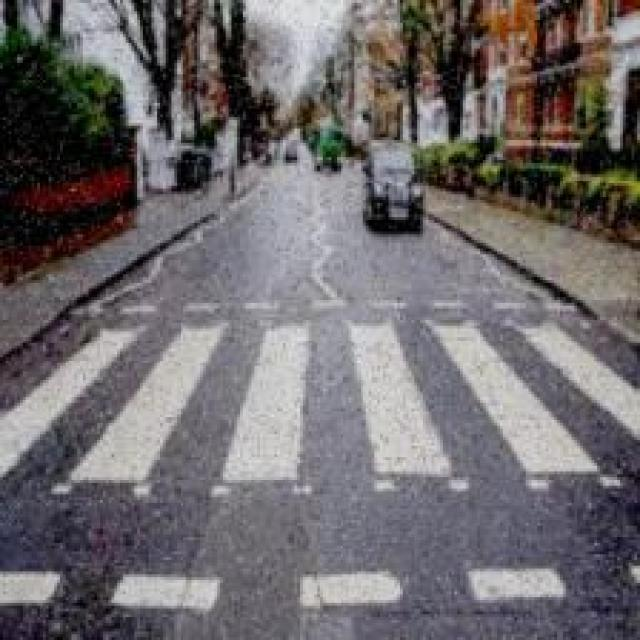crosswalk: (1, 304, 640, 601)
